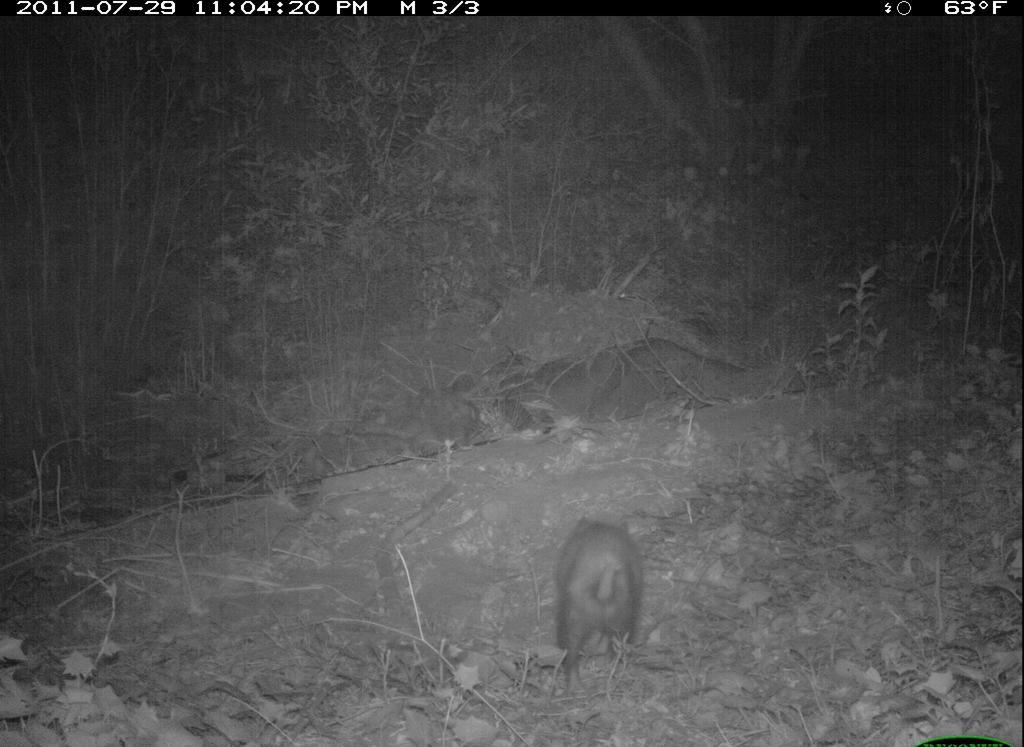opossum: (550, 509, 647, 679)
